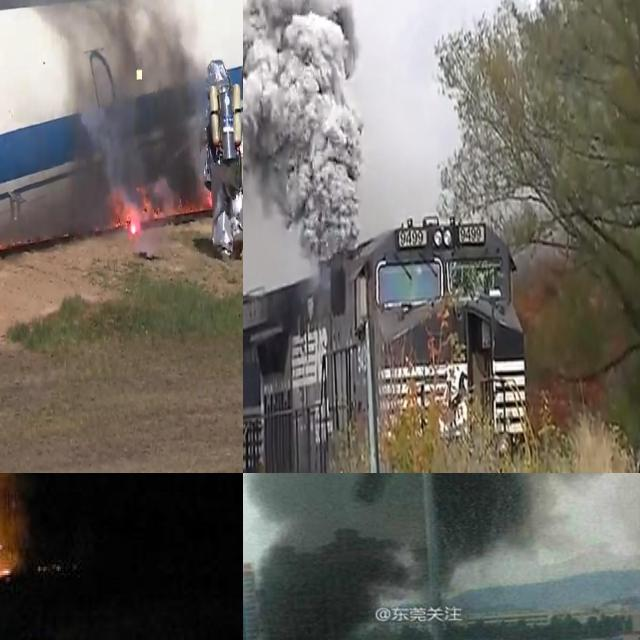fire: (108, 179, 214, 233)
smoke: (243, 473, 640, 640), (0, 0, 200, 185), (243, 0, 363, 265)
